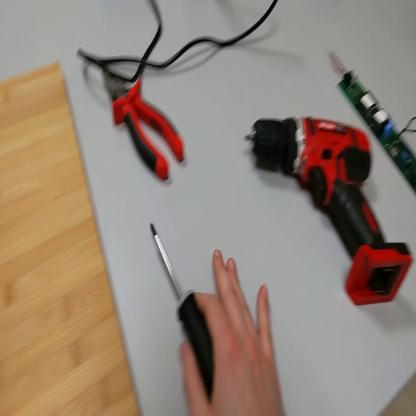electric screwdriver: (245, 115, 414, 310)
hand: (178, 252, 286, 416)
high voltage board: (330, 49, 416, 193)
pliers: (102, 64, 187, 182)
screwdriver-: (147, 224, 210, 407)
working area: (1, 52, 144, 416)
